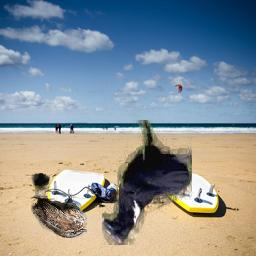Crow: (102, 121, 192, 246)
Sparrow: (31, 174, 87, 239)
